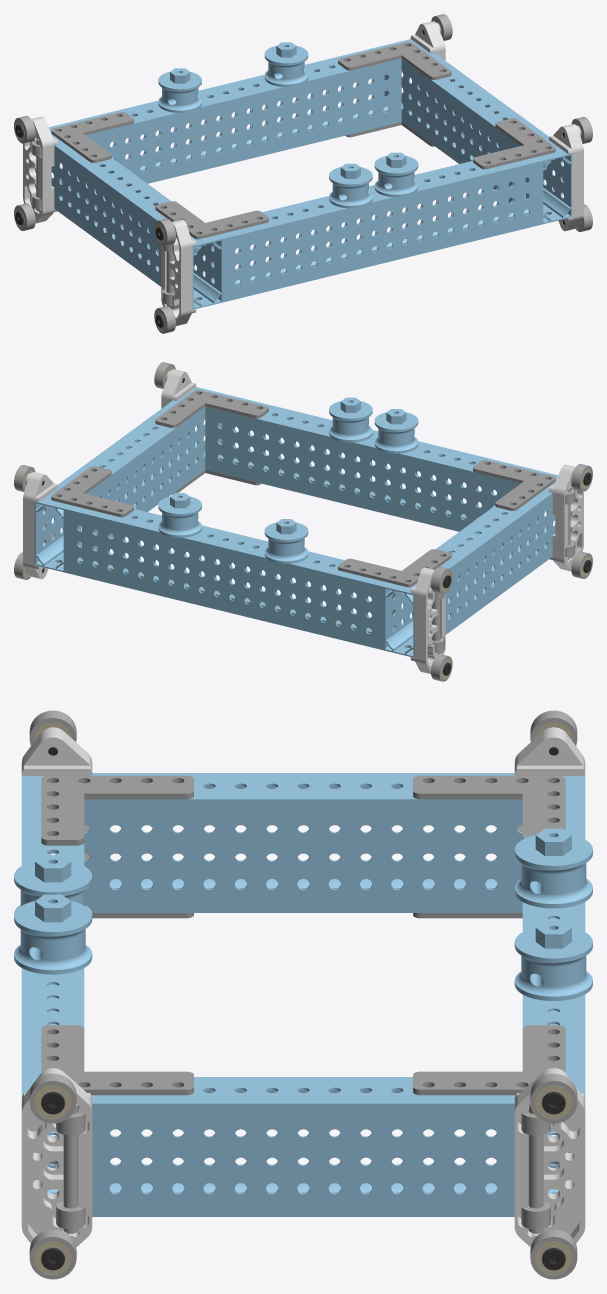
3 renders of one model, top to bottom at view 1: azimuth 30°, elevation 25°; view 2: azimuth 150°, elevation 25°; view 3: azimuth 270°, elevation 25°, orthographic. The views are drawn at different scales.
Visible parts, largest first — view 1: Tube 2"x1"x10.5" (×2), Tube 2"x1"x9" (×2), 90Deg Bracket (×4), WCP-0897-001 Rev1 (×4), Dyneema Tensioning CAM ELEV-PULLEY-003 (×4), 0.250" ID x 0.750" OD x 0.282" WD (Radial Bearing) (×4); view 2: Tube 2"x1"x10.5" (×2), Tube 2"x1"x9" (×2), 90Deg Bracket (×4), WCP-0897-001 Rev1 (×4), Dyneema Tensioning CAM ELEV-PULLEY-003 (×4), 0.250" ID x 0.750" OD x 0.282" WD (Radial Bearing) (×4); view 3: Tube 2"x1"x9" (×2), 90Deg Bracket (×4), WCP-0897-001 Rev1 (×4), Dyneema Tensioning CAM ELEV-PULLEY-003 (×4), Tube 2"x1"x10.5" (×2), 0.250" ID x 0.750" OD x 0.282" WD (Radial Bearing) (×6), WCP-0897-002 Rev1 (×2).
Part boxes in pixels (box(x1,y1,x2,y2)): Tube 2"x1"x10.5" (×2): box(65, 45, 541, 302); Tube 2"x1"x9" (×2): box(49, 39, 572, 309); 90Deg Bracket (×4): box(51, 42, 555, 239); WCP-0897-001 Rev1 (×4): box(23, 21, 583, 326); Dyneema Tensioning CAM ELEV-PULLEY-003 (×4): box(158, 42, 418, 208); 0.250" ID x 0.750" OD x 0.282" WD (Radial Bearing) (×4): box(14, 116, 175, 333); Tube 2"x1"x10.5" (×2): box(65, 393, 541, 650); Tube 2"x1"x9" (×2): box(34, 387, 557, 657); 90Deg Bracket (×4): box(51, 390, 555, 587); WCP-0897-001 Rev1 (×4): box(23, 369, 583, 674); Dyneema Tensioning CAM ELEV-PULLEY-003 (×4): box(158, 397, 418, 563); 0.250" ID x 0.750" OD x 0.282" WD (Radial Bearing) (×4): box(431, 464, 592, 681); Tube 2"x1"x9" (×2): box(21, 773, 585, 1216); 90Deg Bracket (×4): box(41, 775, 565, 1095); WCP-0897-001 Rev1 (×4): box(21, 727, 585, 1246); Dyneema Tensioning CAM ELEV-PULLEY-003 (×4): box(14, 828, 592, 1000); Tube 2"x1"x10.5" (×2): box(21, 799, 585, 1164); 0.250" ID x 0.750" OD x 0.282" WD (Radial Bearing) (×6): box(29, 710, 577, 1279); WCP-0897-002 Rev1 (×2): box(63, 1104, 543, 1233).
Bounding box in the file's own units: 0.3591 × 0.0953 × 0.235.
